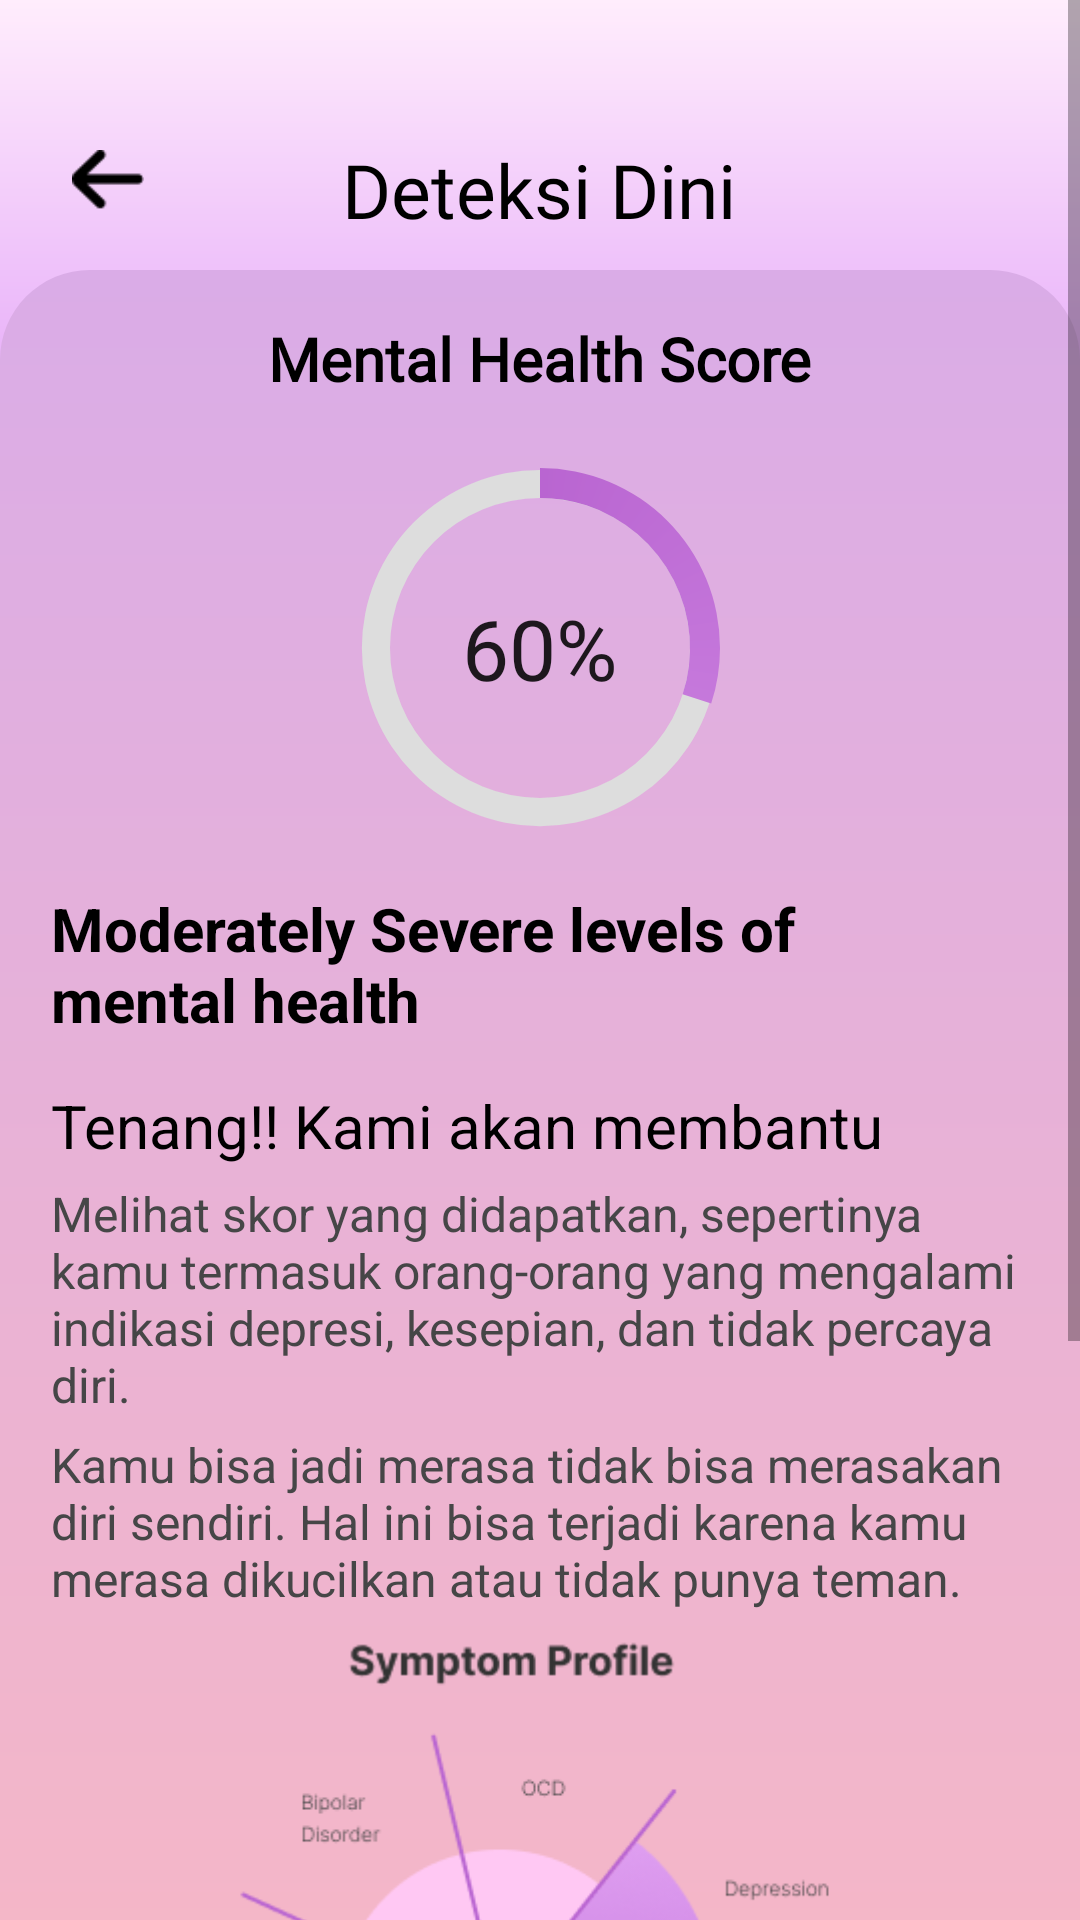

Screen size 1080 x 1920. Icon name, then its box in pixels as (x1, y1, x2, y2):
back: (72, 150, 144, 209)
